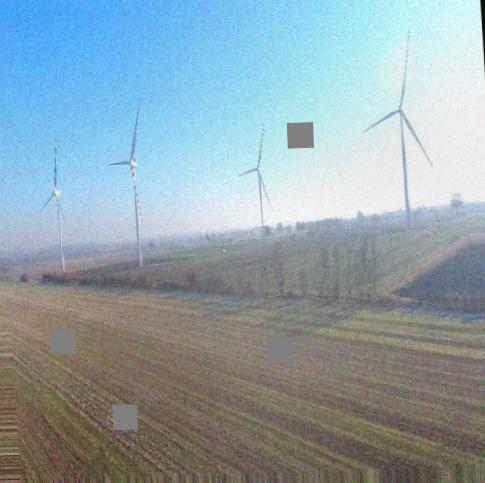wind turbine: (364, 30, 435, 217), (109, 100, 145, 268), (236, 122, 272, 237), (39, 149, 68, 267)
